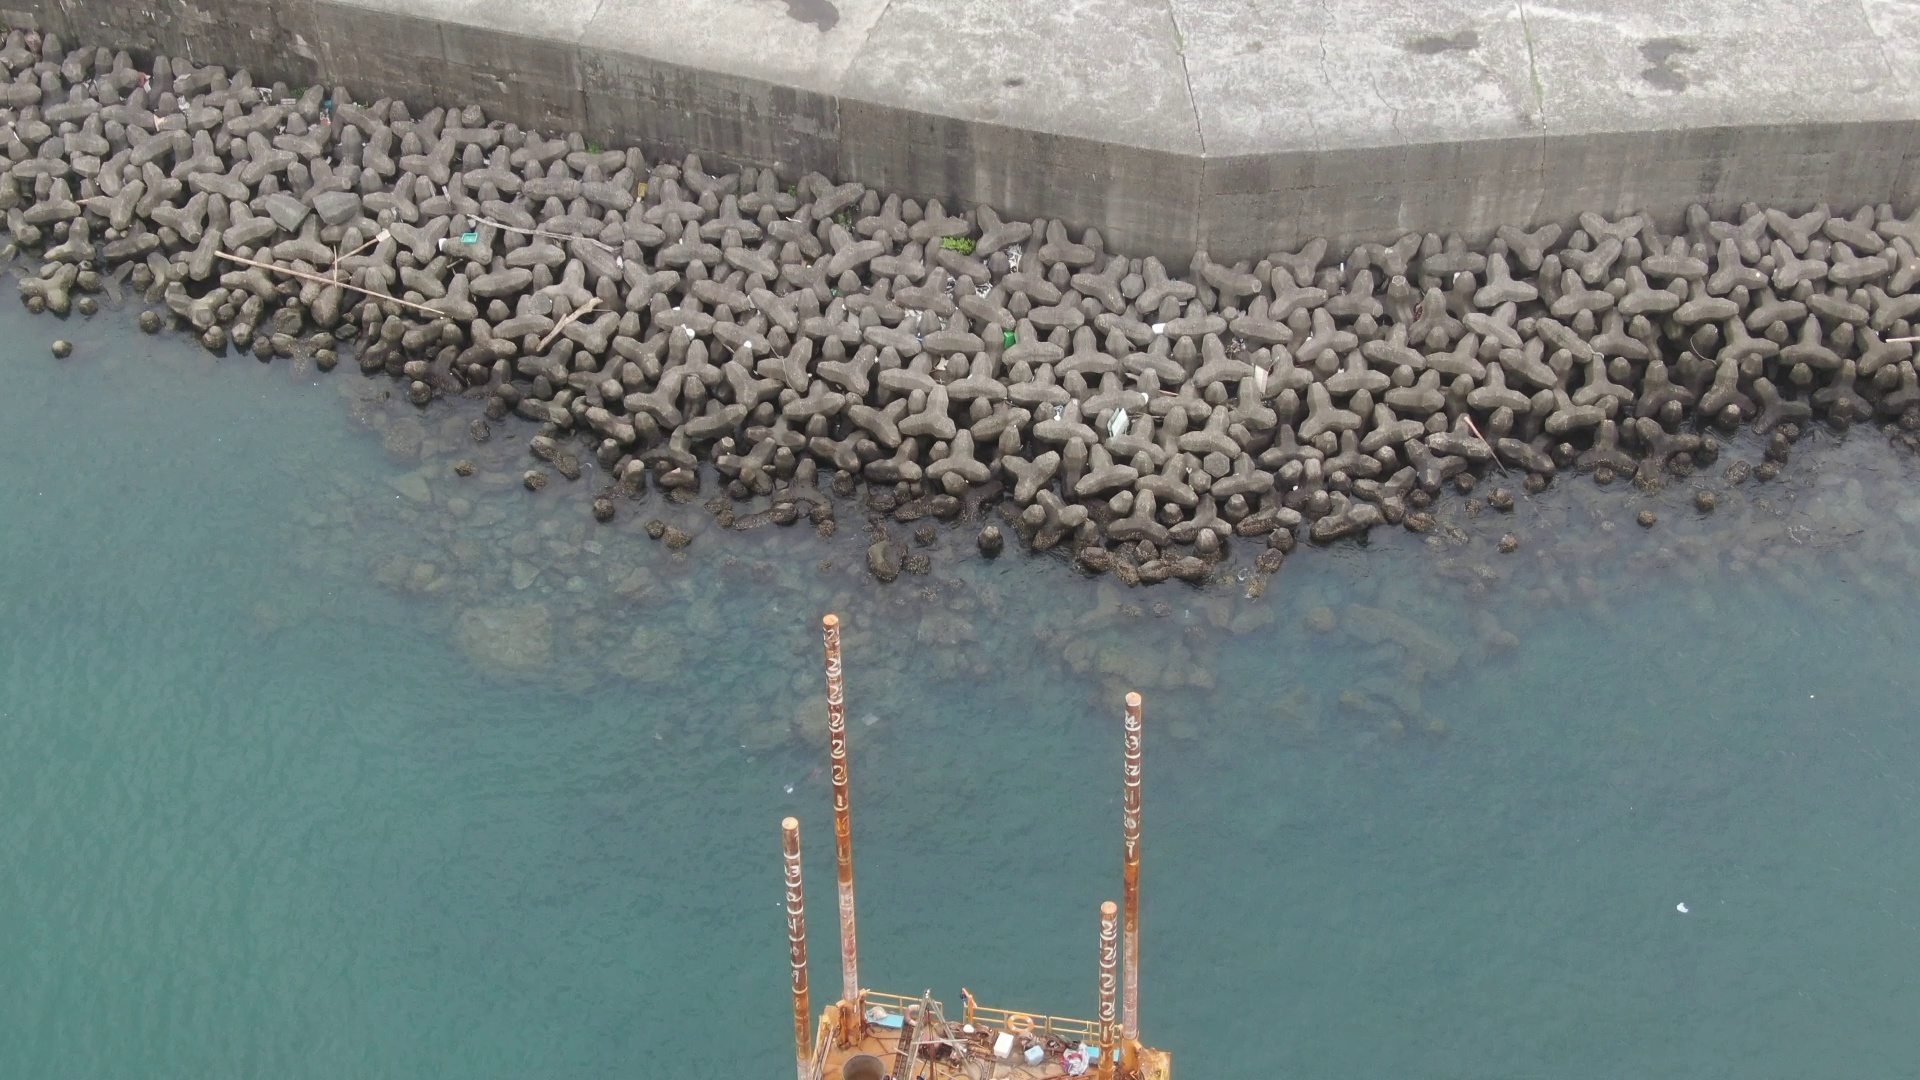garbage: (1100, 396, 1138, 452), (1250, 357, 1283, 402), (997, 319, 1021, 355), (458, 225, 485, 248)
